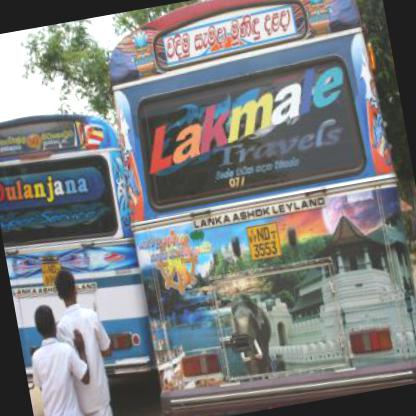bus: (92, 0, 415, 415), (0, 98, 165, 402)
